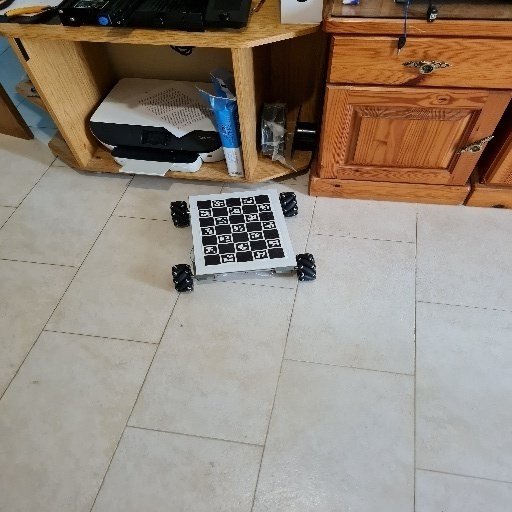Omniwheel: (169, 189, 319, 294)
